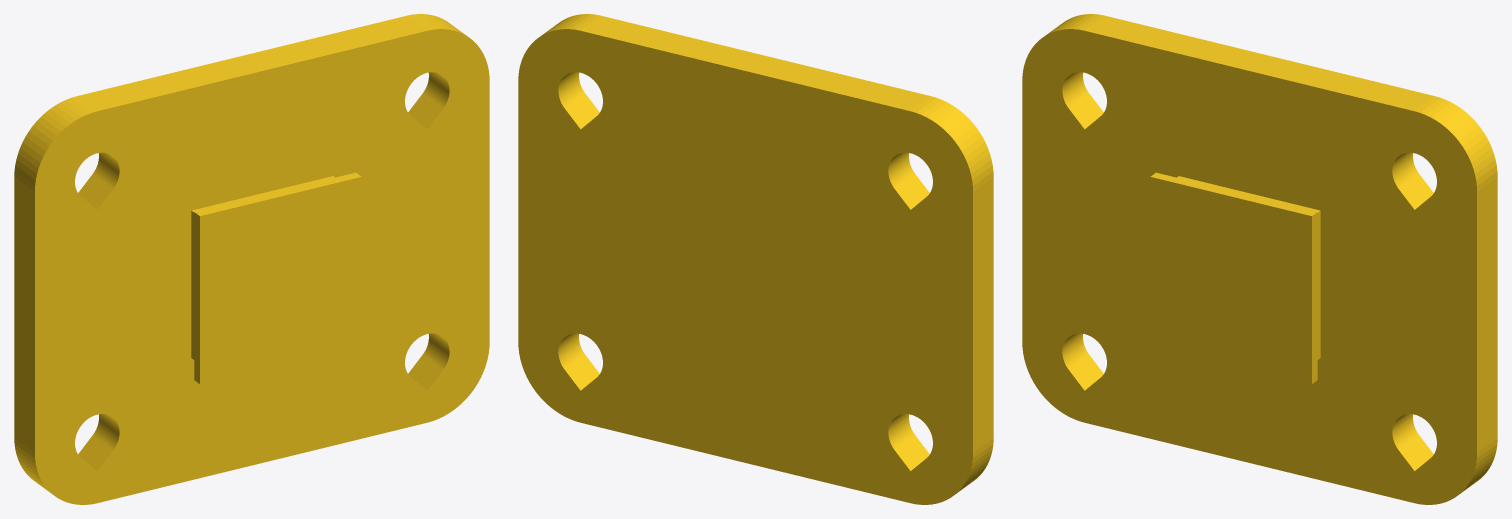
Rendered from base_visuals_waveshare_mounting_plate_so101_v2_mesh.obj.
The picture shows the model from 3 angles, left to right: view 1: azimuth 30°, elevation 25°; view 2: azimuth 150°, elevation 25°; view 3: azimuth 330°, elevation 25°; orthographic projection.
Bounding box in the file's own units: 0.051 × 0.042 × 0.0076.
